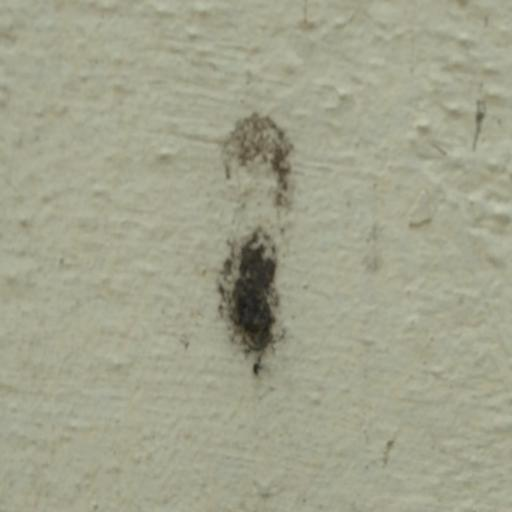stain: (187, 80, 354, 404)
